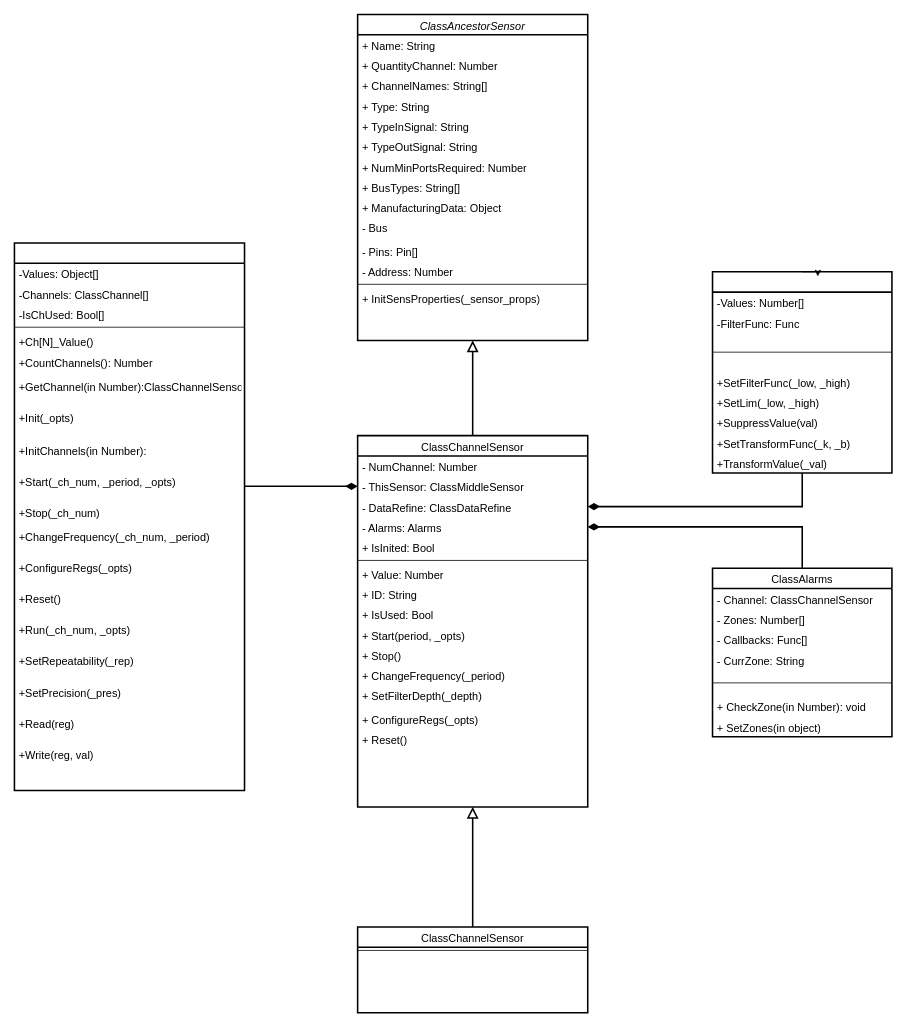
This 906x1026 diagram has some shape labels left out. The shapes that lost their labels are listed below. From the top down, each one's box as (x1, y1, x2, y2) in pixels, then its label:
(711, 271, 892, 473): ClassLimits
(13, 242, 245, 791): ClassMiddleSensor
